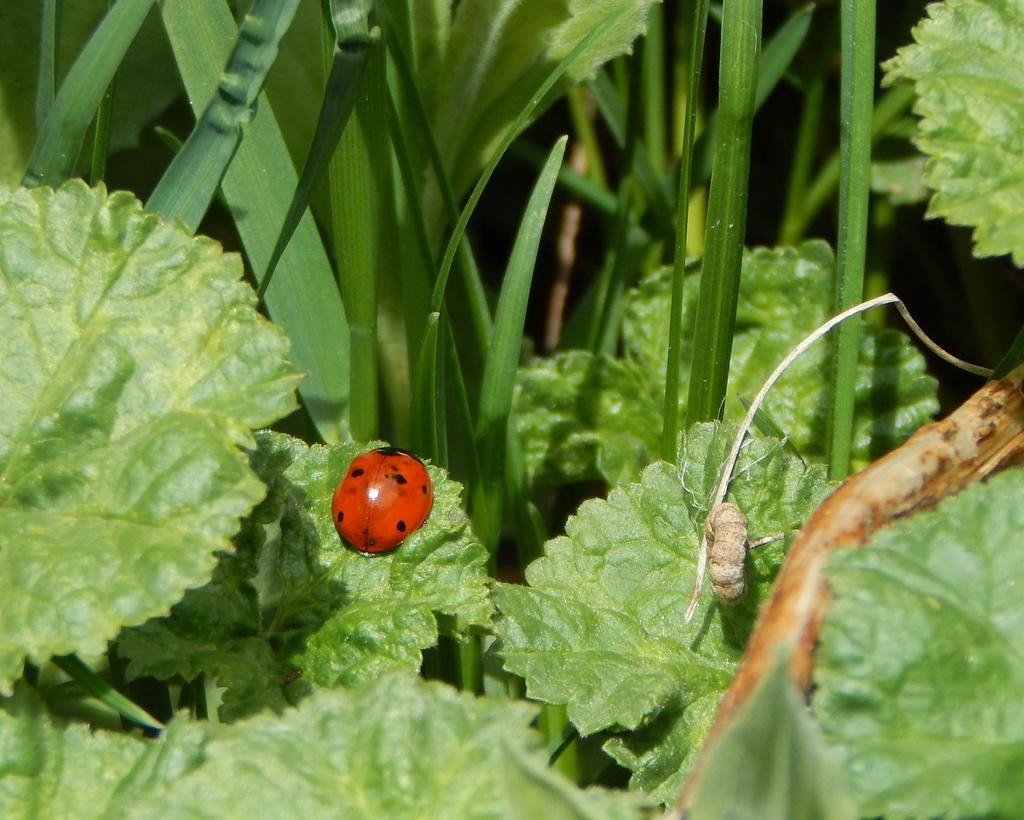ladybug: (332, 446, 436, 560)
